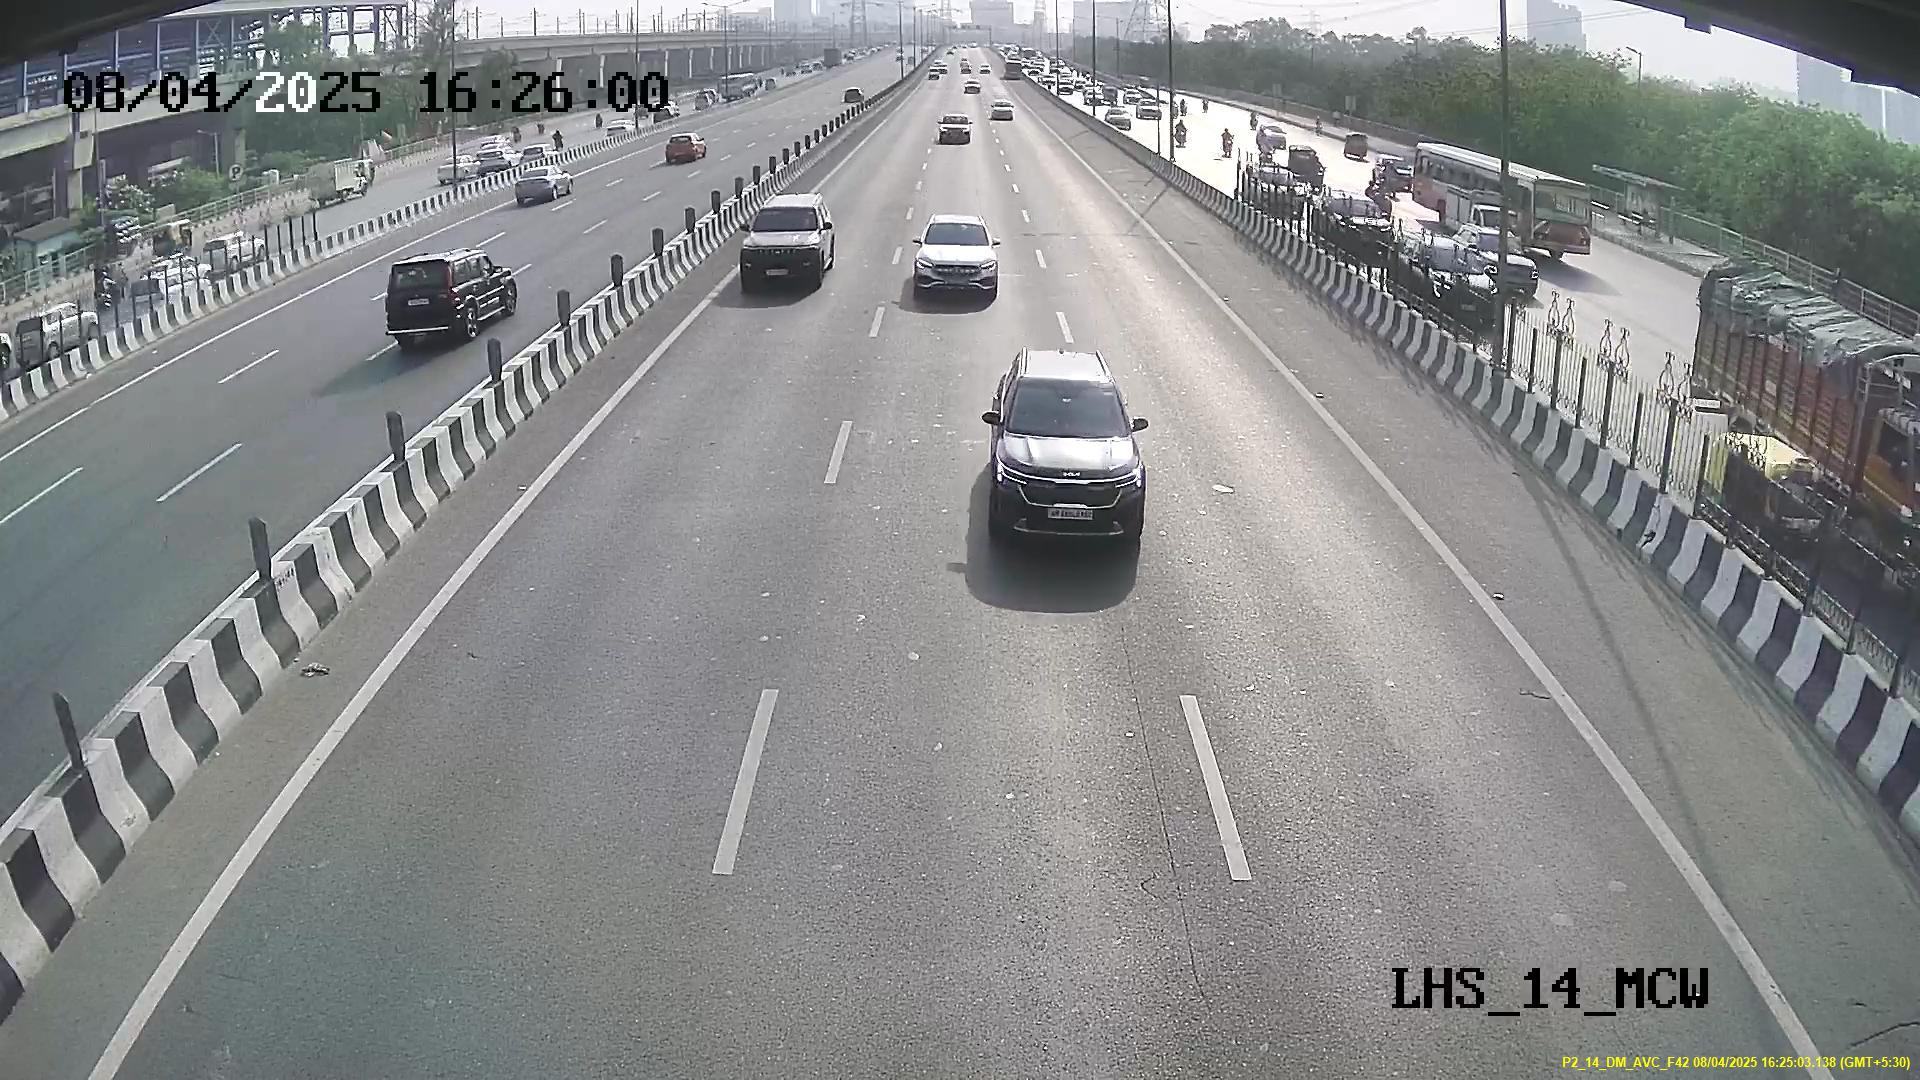car: (980, 377, 1147, 559), (728, 199, 841, 295), (903, 220, 1005, 303)
